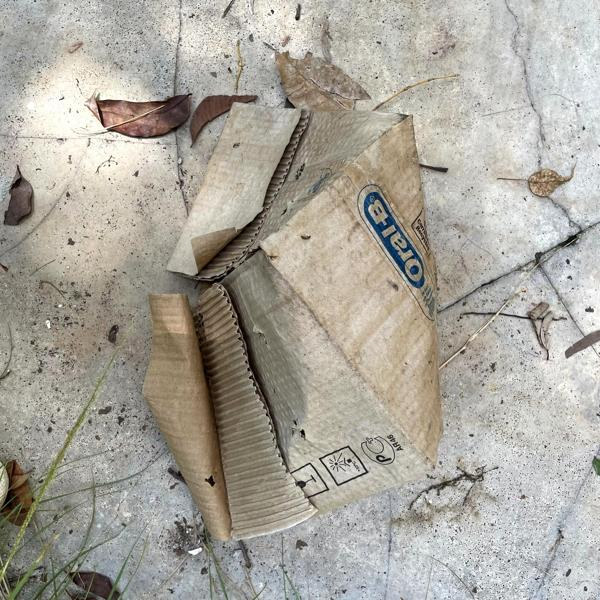Organik: (119, 83, 481, 556)
